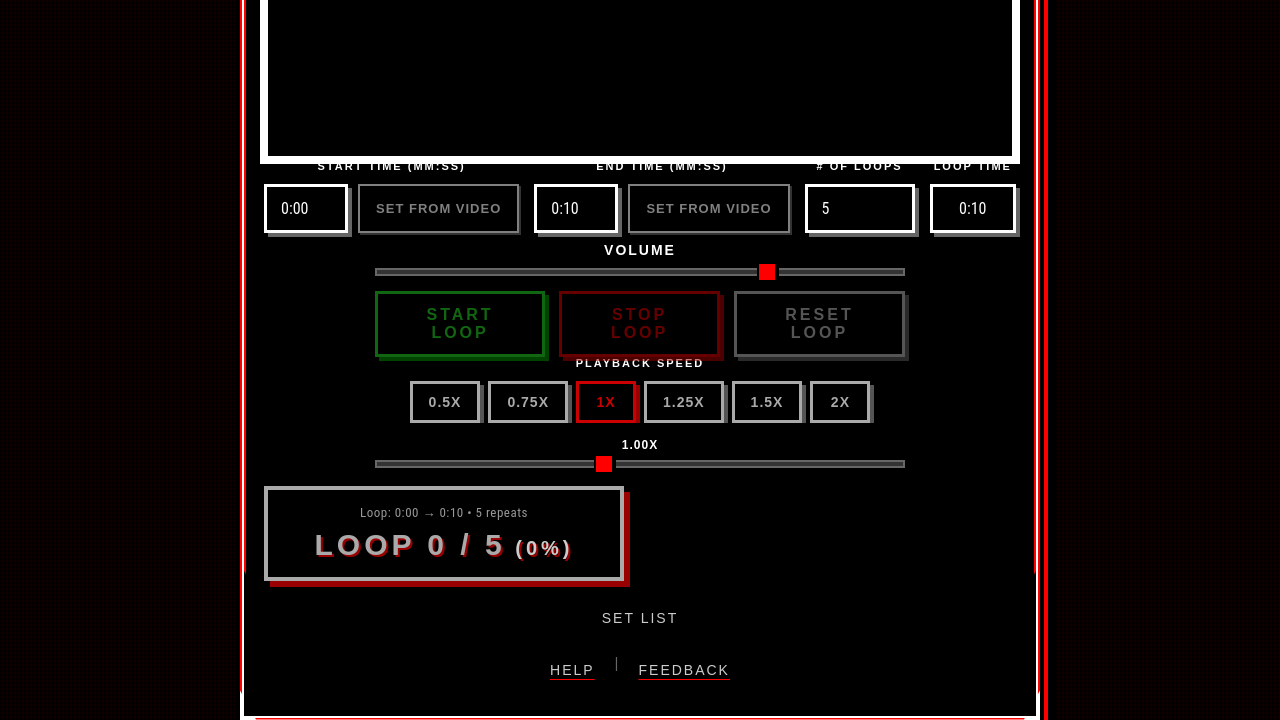
Test: App › help modal contains updated help content (default video, MP3 loops, Resume Loop, target loops range, Set/Set from Video)
This screenshot has width=1280, height=720.
(page scrolled)
Click the button "help". click: (572, 670)
box: [538,654,607,686]
(page scrolled)
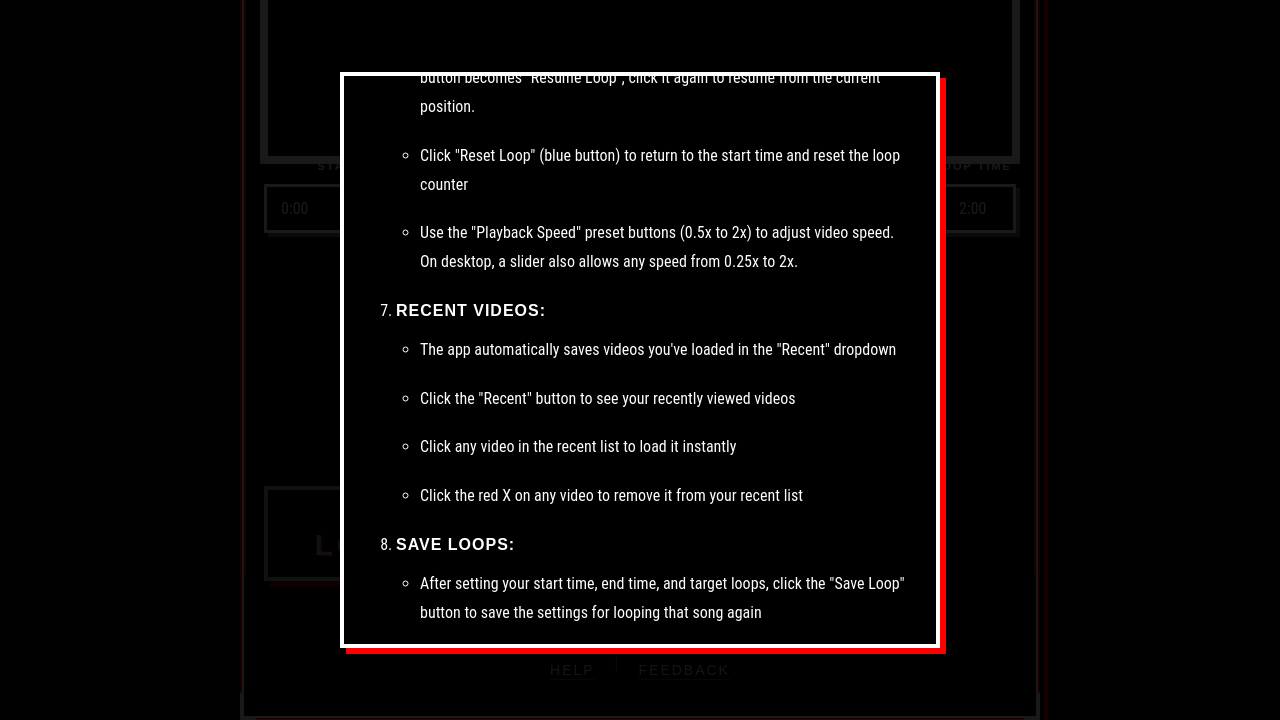
Result: the element with class "help-content" shows "resume from the current position" at [420,72,880,116]
Result: the element with class "help-content" shows "0.5x to 2x" at [420,224,894,242]
